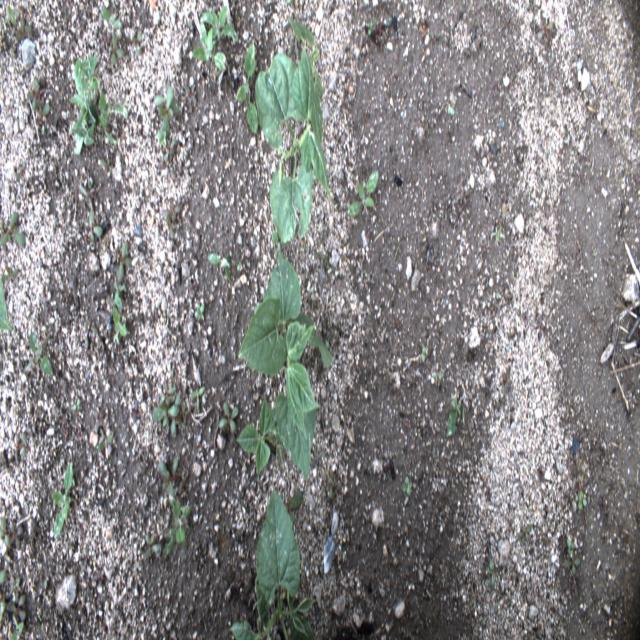crop: (239, 252, 333, 483), (256, 17, 332, 244), (229, 485, 317, 639), (236, 396, 289, 479), (0, 276, 13, 332)
weed: (70, 54, 128, 156), (236, 43, 258, 136), (151, 377, 181, 441), (163, 497, 192, 558), (52, 461, 74, 539), (192, 22, 228, 68), (199, 5, 238, 47), (153, 85, 180, 139), (24, 332, 54, 379), (348, 170, 378, 216), (158, 455, 183, 507), (1, 212, 26, 249), (445, 396, 465, 438), (116, 238, 135, 282), (208, 252, 232, 282), (218, 400, 238, 431), (26, 76, 44, 108), (284, 491, 302, 523), (7, 594, 26, 624), (564, 547, 581, 580), (34, 97, 50, 129), (144, 530, 161, 560), (79, 176, 93, 212), (113, 307, 126, 345), (272, 230, 285, 268), (101, 7, 122, 30), (110, 33, 125, 65), (189, 384, 205, 414), (164, 197, 182, 222), (88, 210, 102, 242), (112, 280, 126, 311), (97, 428, 114, 453), (16, 17, 31, 45), (8, 520, 22, 548), (4, 5, 20, 28), (0, 516, 11, 548), (517, 523, 533, 543), (432, 362, 444, 385), (574, 489, 588, 508), (401, 476, 413, 495), (10, 624, 24, 640), (194, 302, 204, 321), (490, 561, 496, 589), (566, 540, 576, 554)
